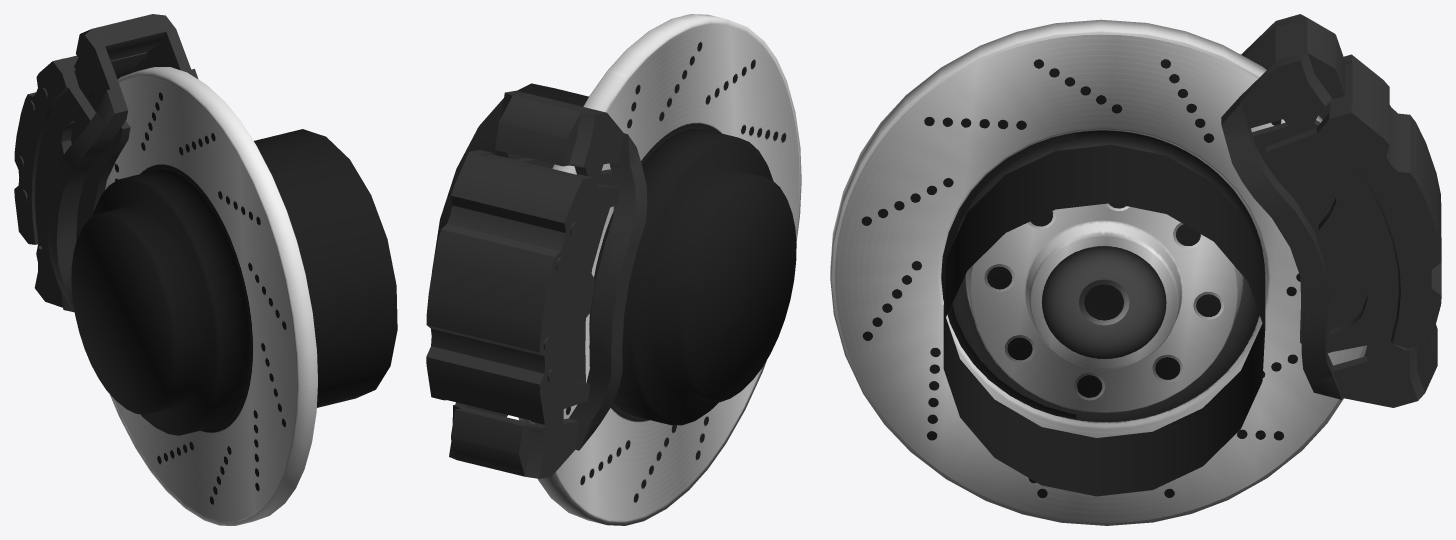
Rendered from Brake Set Right Side.fbx.
3 renders of one model, left to right at view 1: azimuth 30°, elevation 25°; view 2: azimuth 150°, elevation 25°; view 3: azimuth 270°, elevation 25°, orthographic. The views are drawn at different scales.
Parts seen in each view (by area): view 1: Brake Unity Right Side; view 2: Brake Unity Right Side; view 3: Brake Unity Right Side.
Boxes of the visible parts, bbox=[...] form: Brake Unity Right Side: bbox=[14, 14, 397, 525]; Brake Unity Right Side: bbox=[426, 14, 801, 525]; Brake Unity Right Side: bbox=[830, 14, 1441, 525].
Size of the model in its own units: 16.3 by 35.3 by 31.59.
